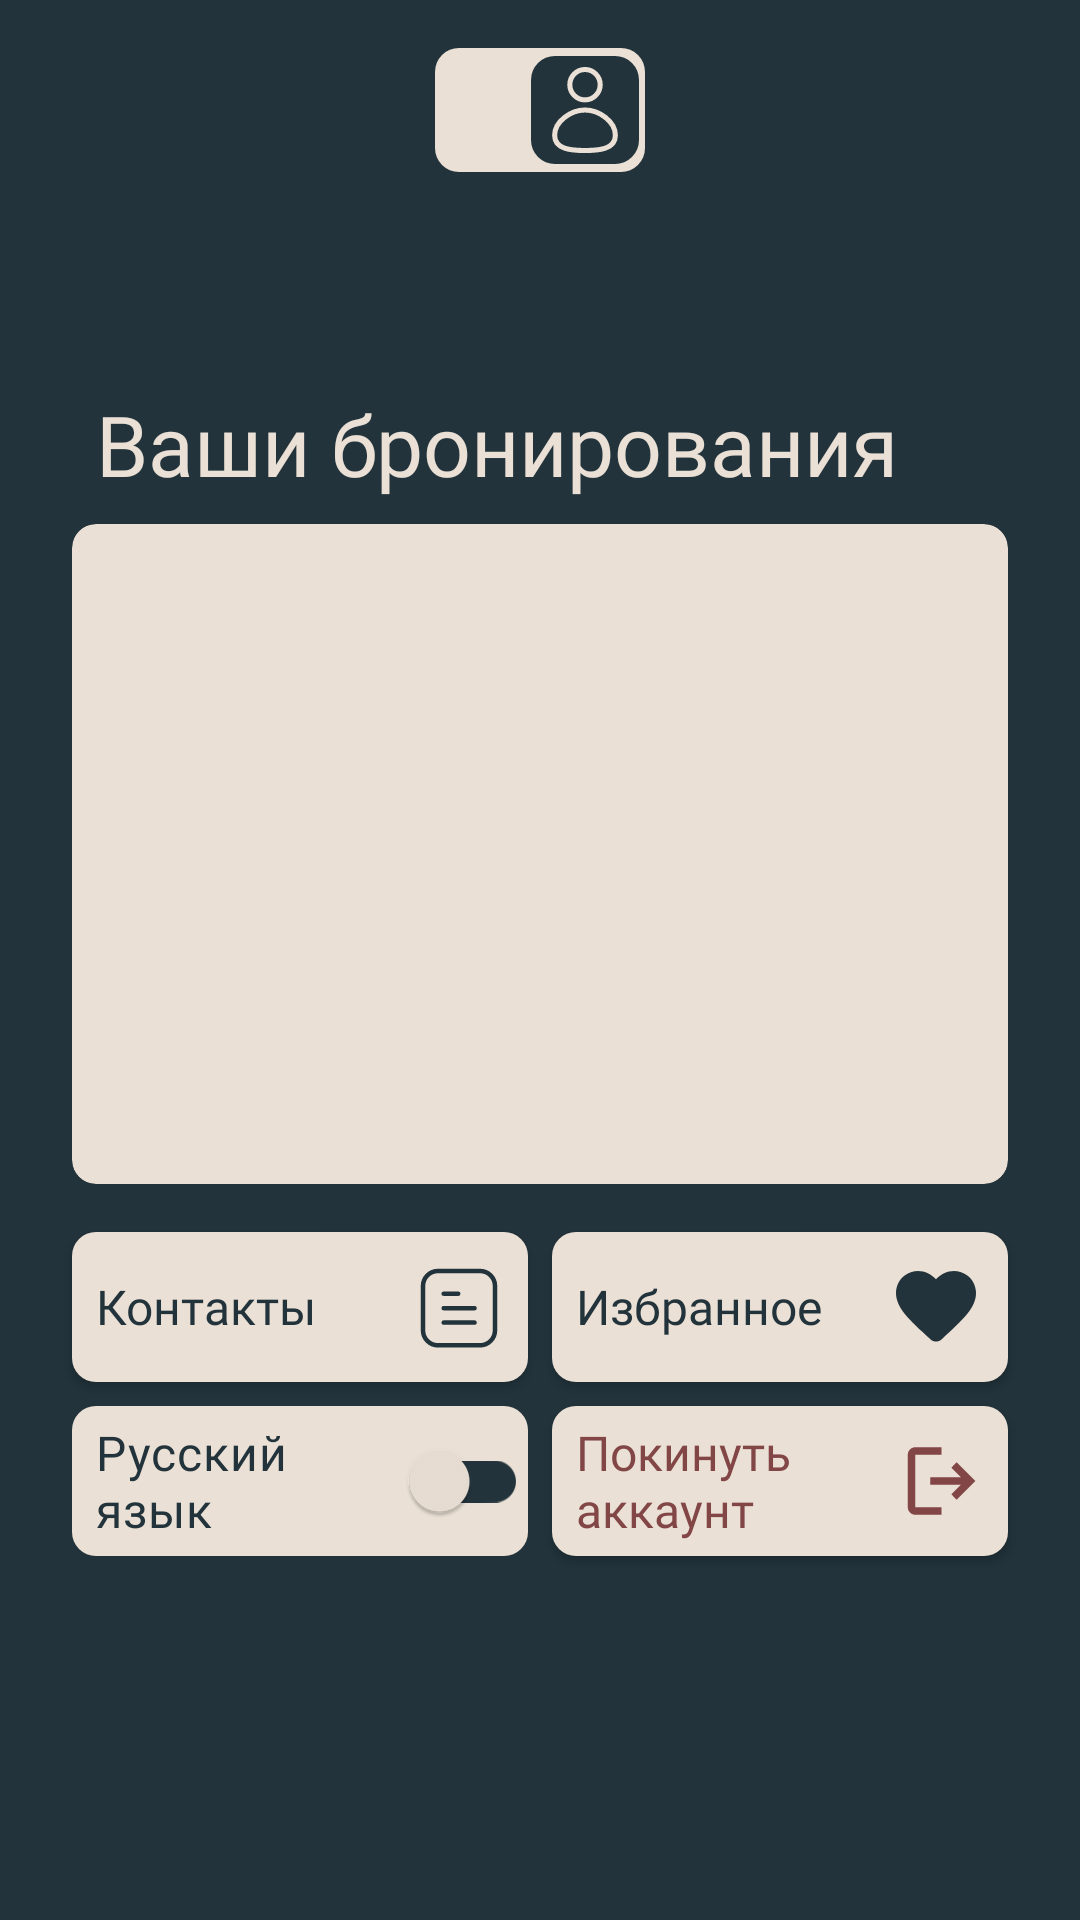

Named icons in this screenshot (1080w x 1920h) and their bounding boxes, (x1=x1, y1=y1, x2=x2, y2=y2):
profile: (x1=531, y1=56, x2=639, y2=164)
